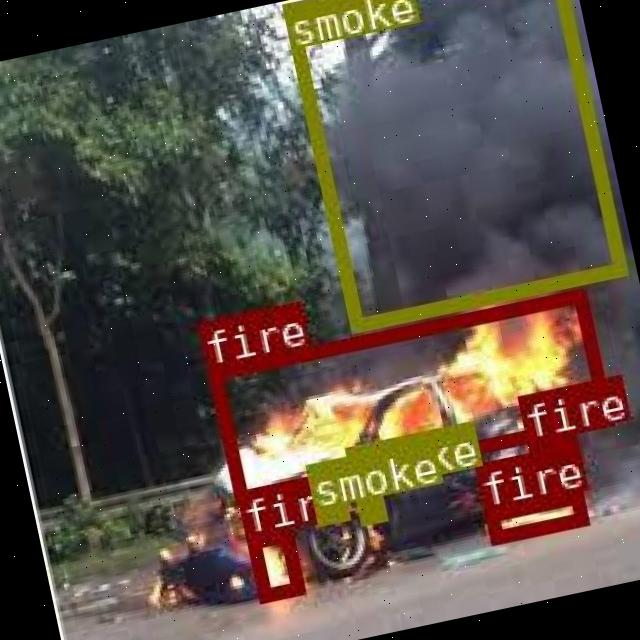fire: (204, 288, 610, 501), (481, 489, 585, 543), (245, 526, 301, 599), (526, 430, 584, 497)
smoke: (280, 0, 625, 330), (354, 488, 384, 522), (312, 502, 346, 524)
